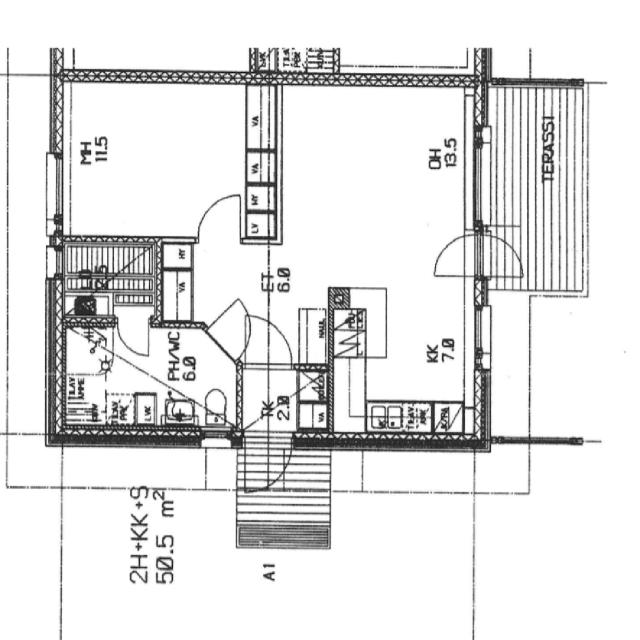door: (195, 190, 243, 240), (262, 428, 296, 486), (430, 232, 472, 278), (116, 317, 153, 360), (216, 296, 248, 338), (264, 325, 295, 368)
window: (44, 150, 69, 225), (470, 299, 496, 360), (198, 427, 233, 449)
zone: (50, 80, 244, 242), (60, 319, 243, 425), (58, 244, 155, 300), (245, 81, 280, 151), (159, 256, 194, 324), (162, 240, 194, 270)
